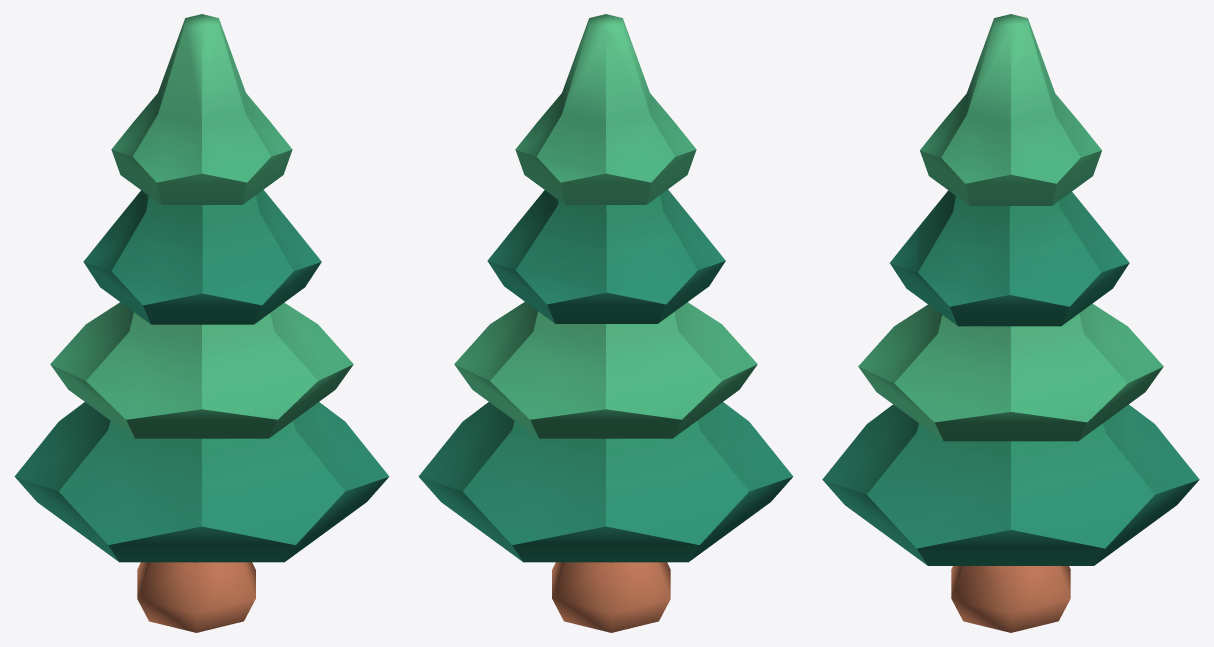
File: kenney-graveyard-pine.glb
3 renders of one model, left to right at view 1: azimuth 30°, elevation 25°; view 2: azimuth 150°, elevation 25°; view 3: azimuth 270°, elevation 25°, orthographic.
Parts seen in each view (by area): view 1: pine; view 2: pine; view 3: pine.
Boxes of the visible parts, x1,y1,x2,y2 form: pine: (14,14,389,632); pine: (418,14,793,632); pine: (822,14,1199,632).
Size of the model in its own units: 1.18 by 2.3 by 1.33.
Materials: 1 (1 with a texture image).
